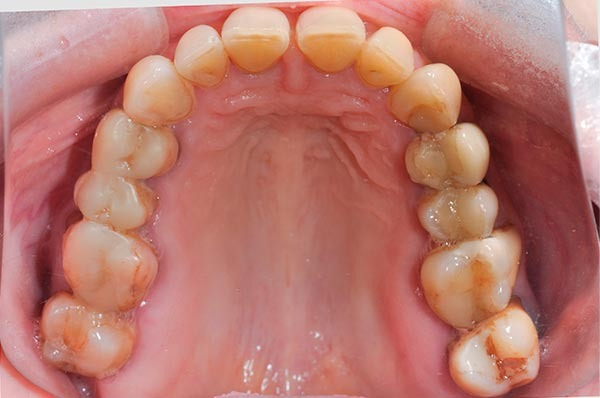UL1BC_decay: (408, 128, 492, 186)
UL1M_decay: (424, 239, 520, 323)
UL2BC_decay: (423, 185, 499, 238)
UL2M_decay: (448, 317, 546, 392)
ULCI_healthy: (296, 5, 362, 70)
ULC_healthy: (400, 66, 463, 128)
ULLI_healthy: (361, 24, 414, 87)
UR1BC_healthy: (91, 110, 181, 178)
UR1M_decay: (66, 224, 160, 311)
UR2BC_decay: (75, 176, 161, 232)
UR2M_decay: (44, 295, 137, 378)
URCI_healthy: (223, 5, 290, 70)
URC_healthy: (126, 58, 198, 124)
URLI_healthy: (175, 26, 230, 84)
